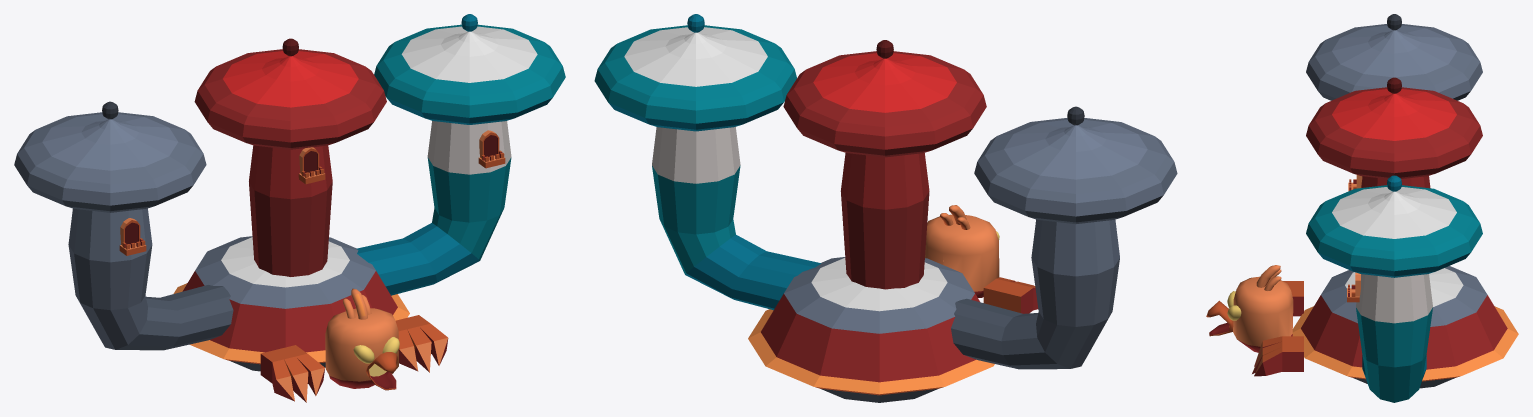
File: Templo dos 3 Caminhos, Exterior.fbx
3 renders of one model, left to right at view 1: azimuth 30°, elevation 25°; view 2: azimuth 150°, elevation 25°; view 3: azimuth 270°, elevation 25°, orthographic. The views are drawn at different scales.
Parts seen in each view (by area): view 1: Templo; view 2: Templo; view 3: Templo.
Part boxes in pixels (<box>): Templo: <box>14,14,565,402</box>; Templo: <box>594,14,1177,402</box>; Templo: <box>1206,14,1518,402</box>.
Bounding box in the file's own units: 2082 × 1216 × 1165.
1 material, 1 textured.
